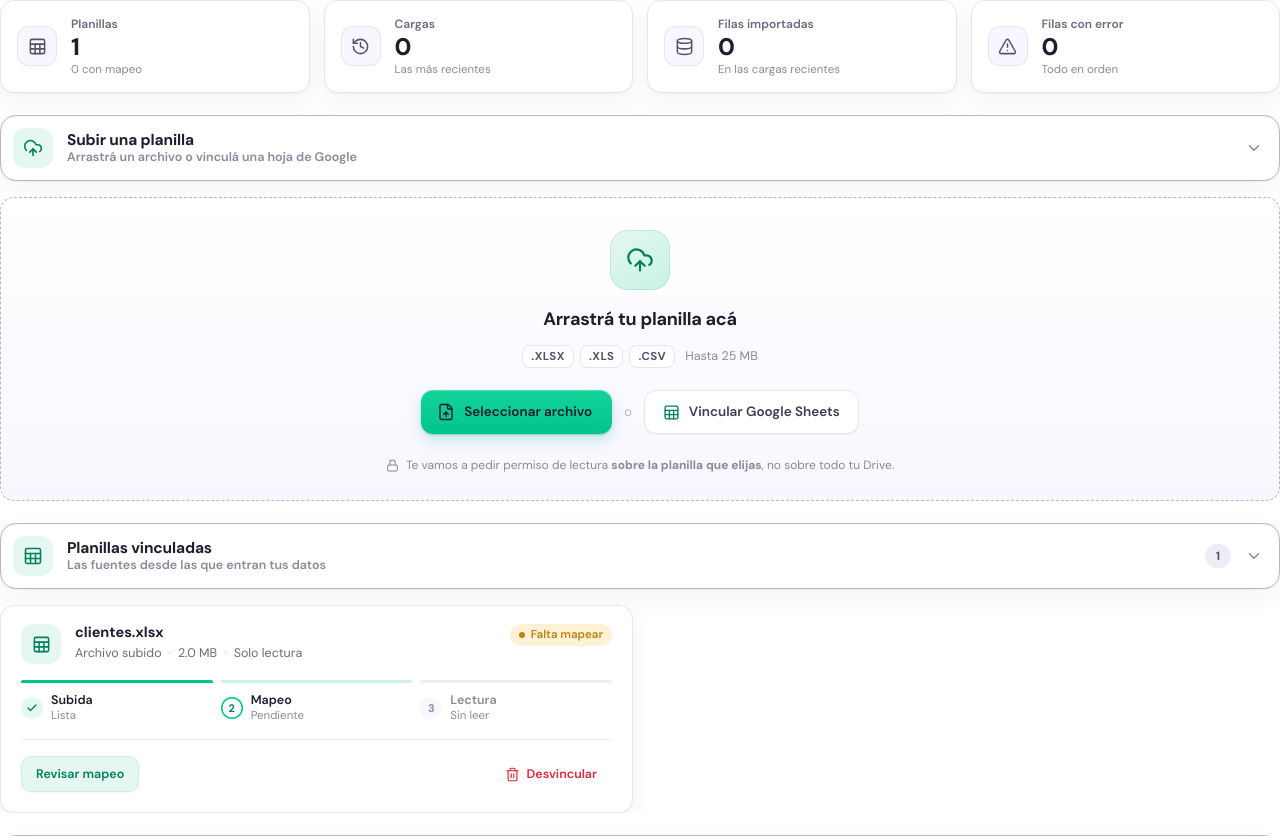
it: IngestaDePlanillas · vincular con Google › si el pedido falla, «Continuar» se libera y el error se ve
The width and height of the screenshot is (1280, 836).
Click the button "Vincular Google Sheets": {"x": 751, "y": 412} [644,390,859,434]
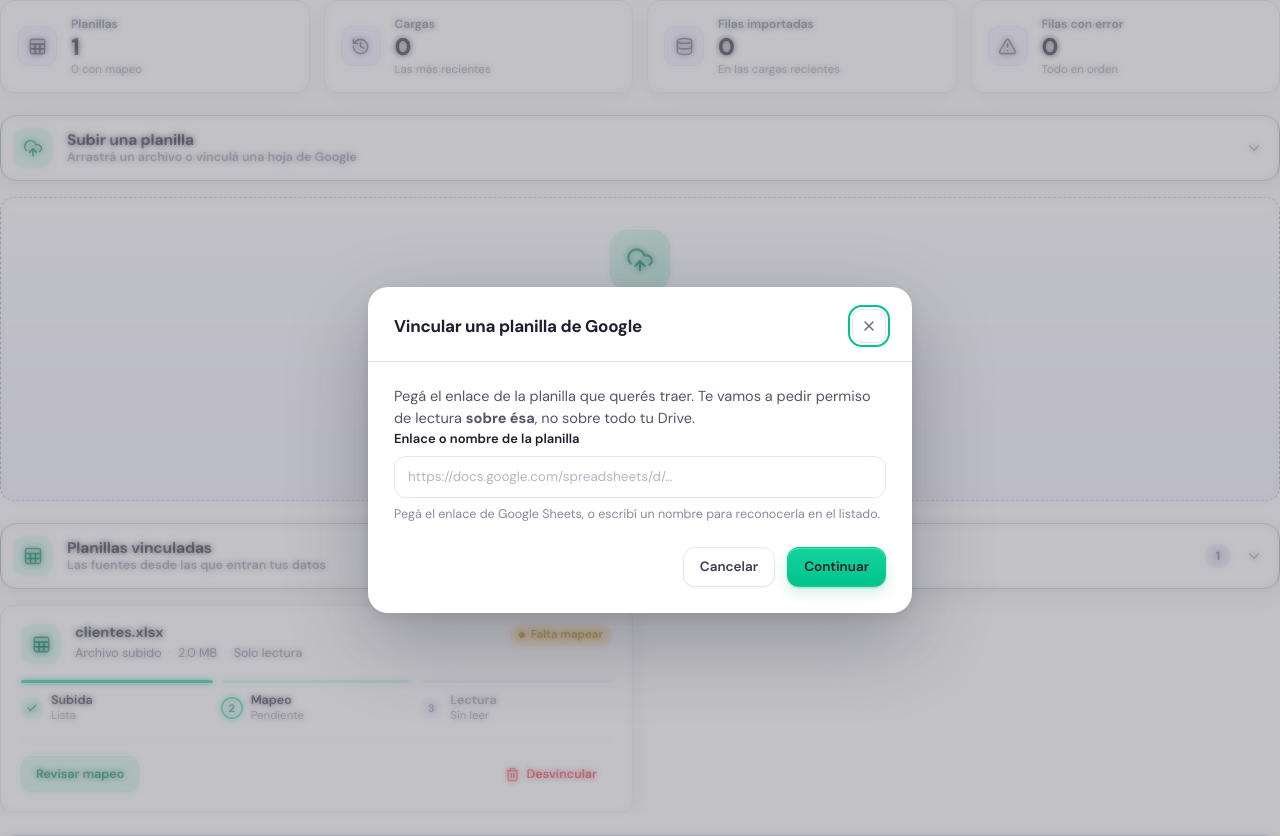
In the field labelled "Enlace o nombre de la planilla": {"x": 640, "y": 477} [394,456,886,498], type "Clientes 2026"
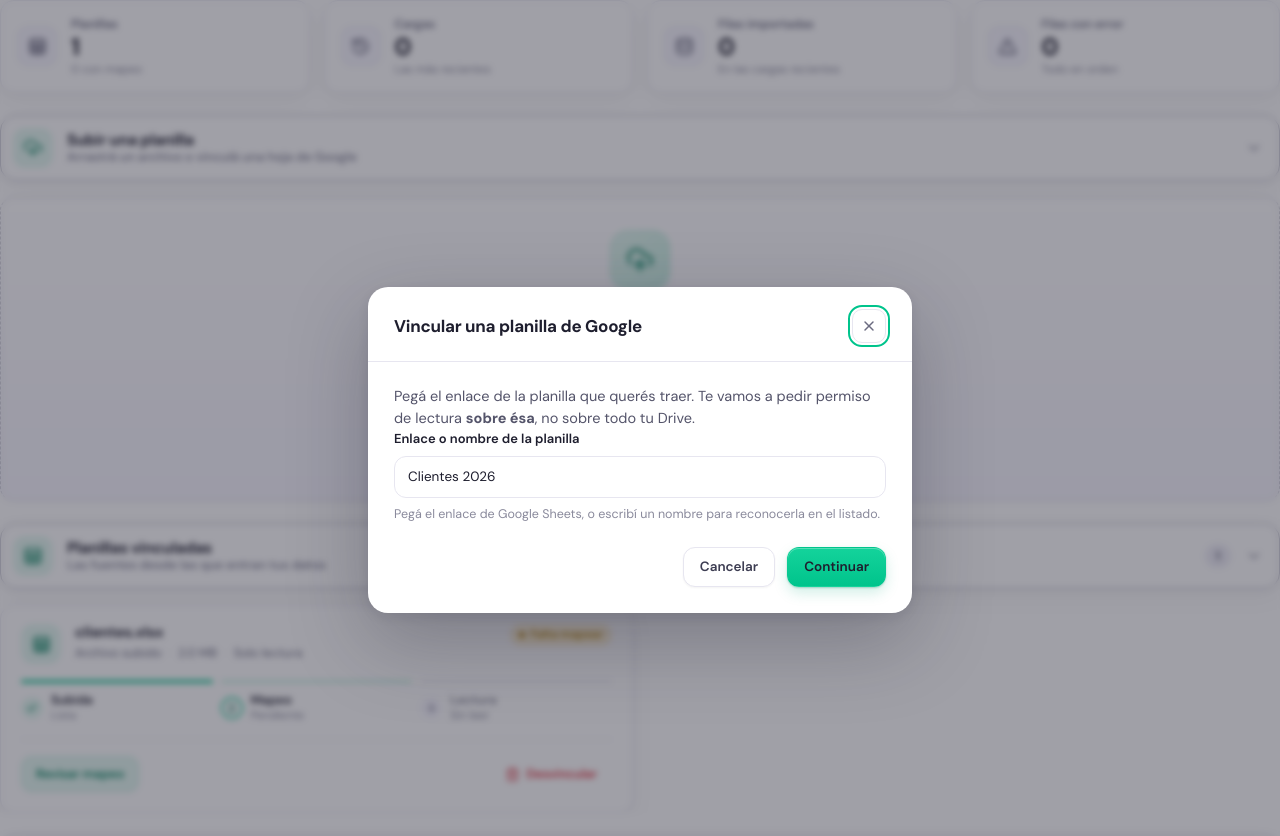
Click the button "Continuar": {"x": 837, "y": 567} [787,547,886,587]
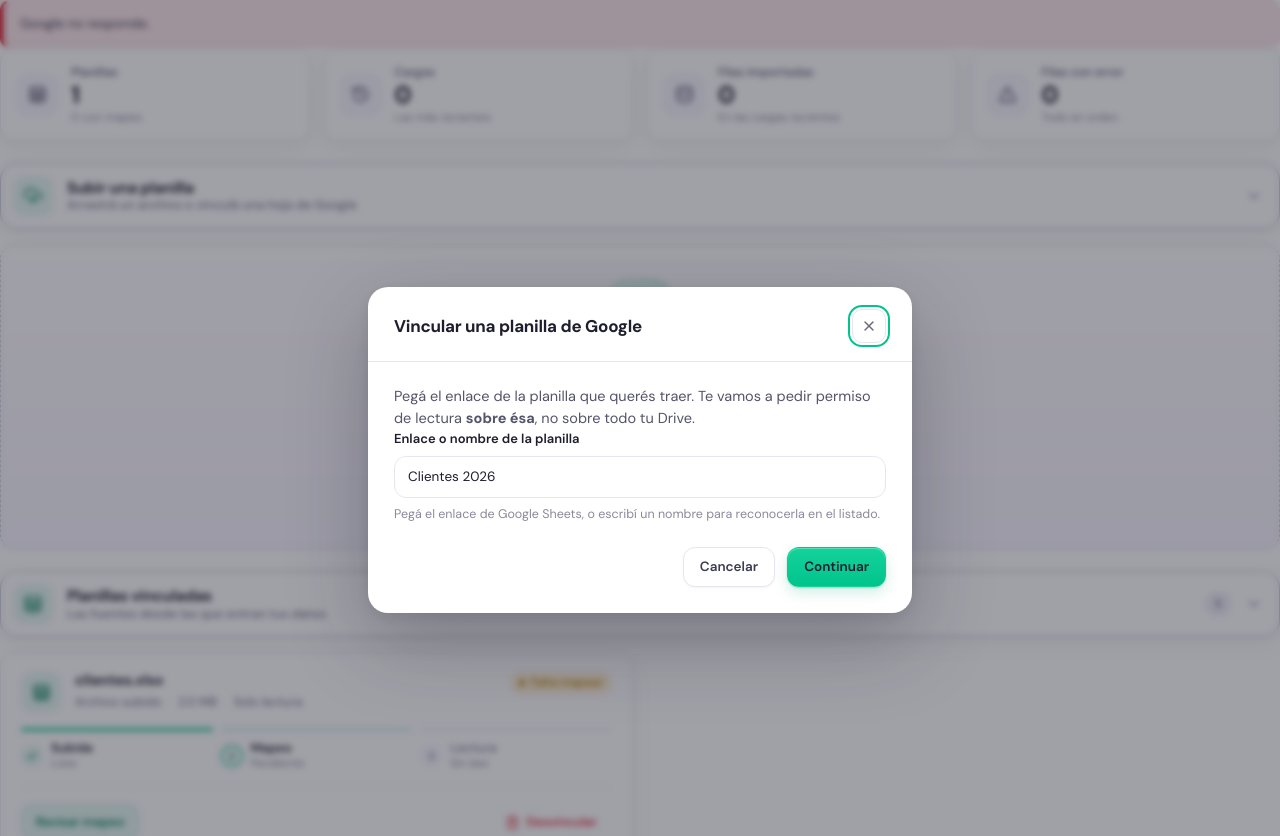
Now the button "Continuar" is enabled, box [787,547,886,587]
Now the text "Google no responde." is shown, box [0,0,1279,48]
